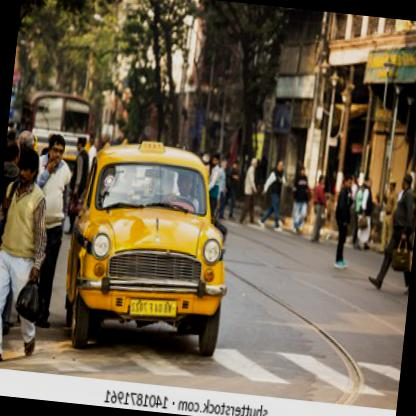car: (58, 136, 235, 365)
